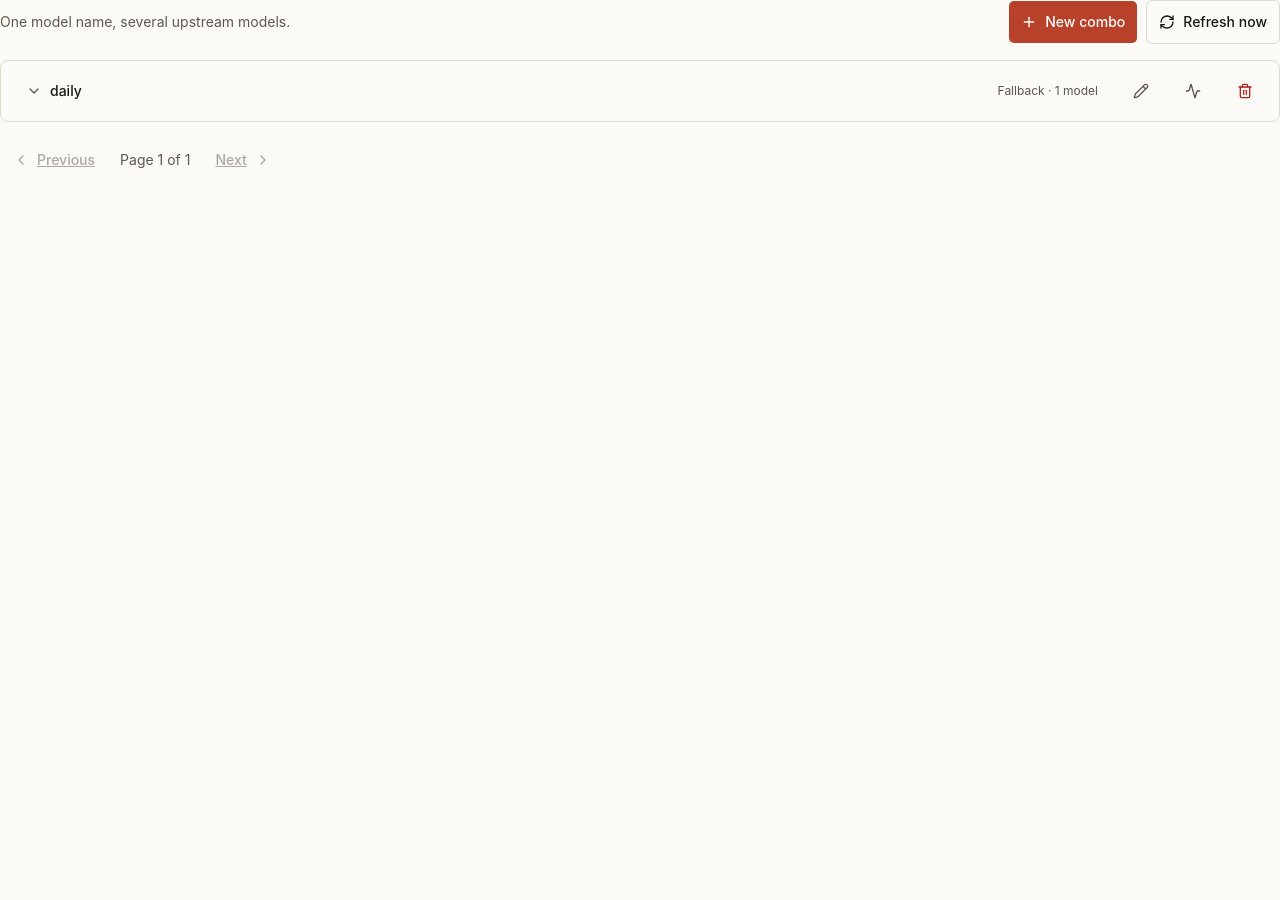
Test case: deleting a combo › cancels without a request
The image size is (1280, 900).
Click the button named "Delete" at (1245, 91), box [1223,69,1267,113]
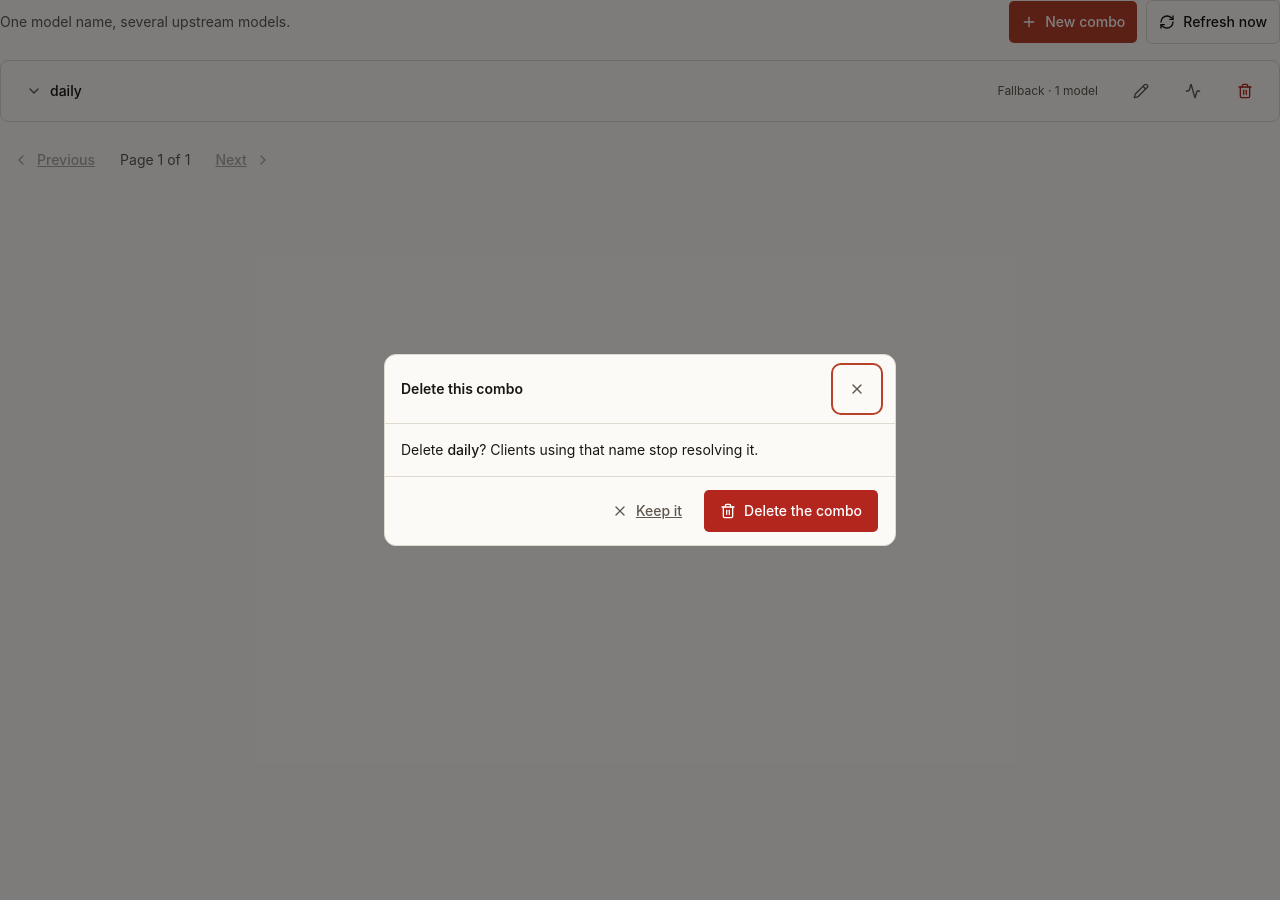
Click the button "Keep it" at (647, 511), box [599,489,695,533]
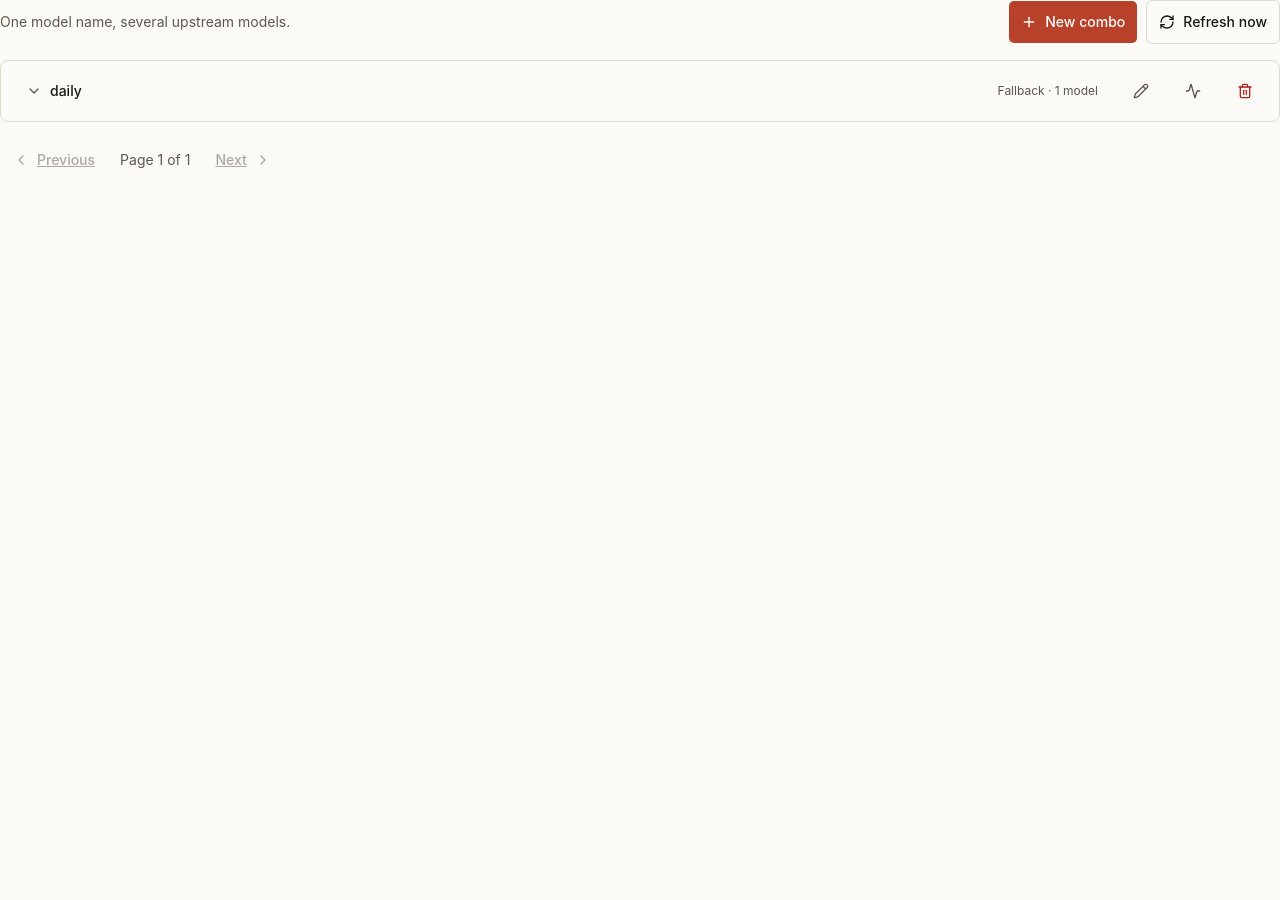
Expected: the text "daily" is shown, [50,81,82,101]
Now the dialog is gone
